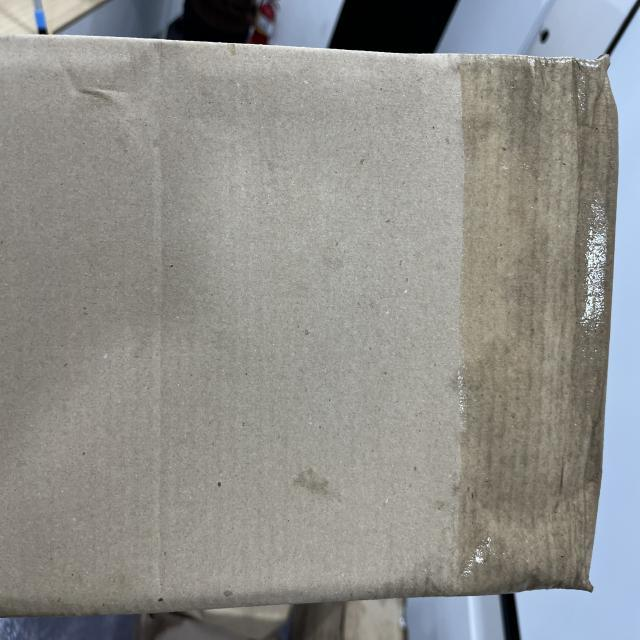wet: (454, 31, 616, 595)
